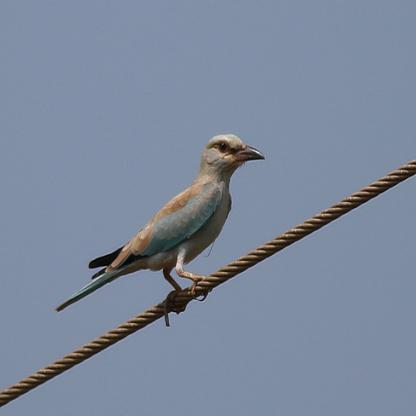Burung: (52, 133, 264, 319)
